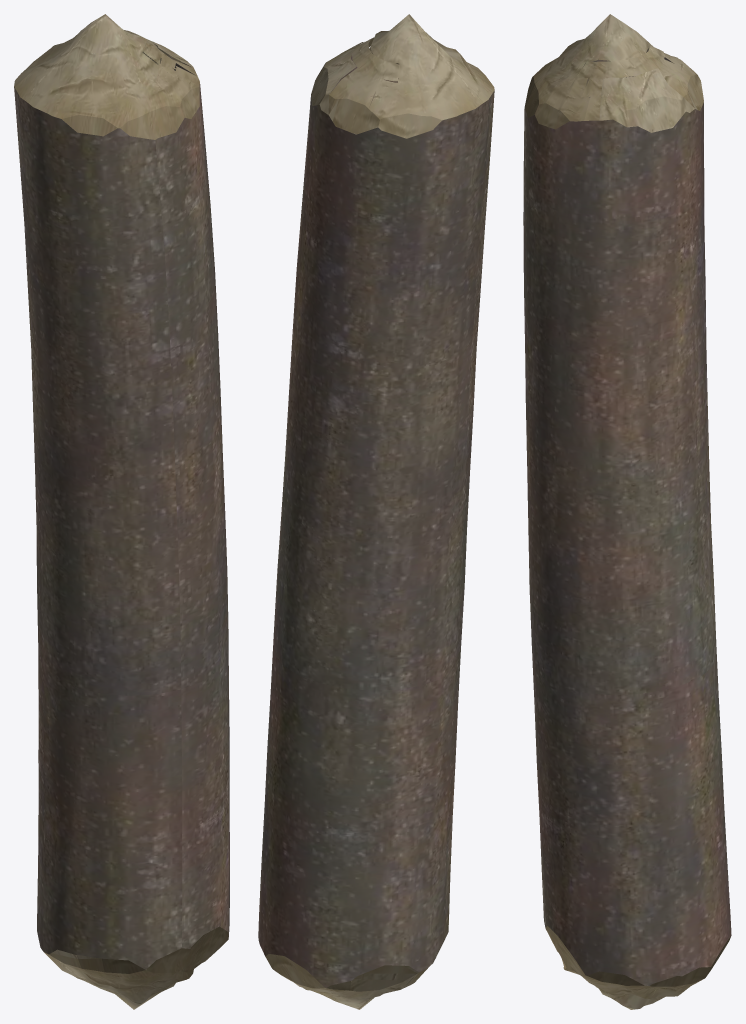
The picture shows the model from 3 angles, left to right: view 1: azimuth 30°, elevation 25°; view 2: azimuth 150°, elevation 25°; view 3: azimuth 270°, elevation 25°; orthographic projection. The views are drawn at different scales.
Visible parts, largest first — view 1: SM_BM_Ash_Tree_01_quarter_03_LOD0; view 2: SM_BM_Ash_Tree_01_quarter_03_LOD0; view 3: SM_BM_Ash_Tree_01_quarter_03_LOD0.
Part boxes in pixels (x1=…): SM_BM_Ash_Tree_01_quarter_03_LOD0: x1=14, y1=14, x2=229, y2=1009; SM_BM_Ash_Tree_01_quarter_03_LOD0: x1=258, y1=14, x2=494, y2=1009; SM_BM_Ash_Tree_01_quarter_03_LOD0: x1=523, y1=14, x2=731, y2=1009.
Size of the model in its own units: 0.5543 by 2.66 by 0.5135.
Materials: 1 (1 with a texture image).
